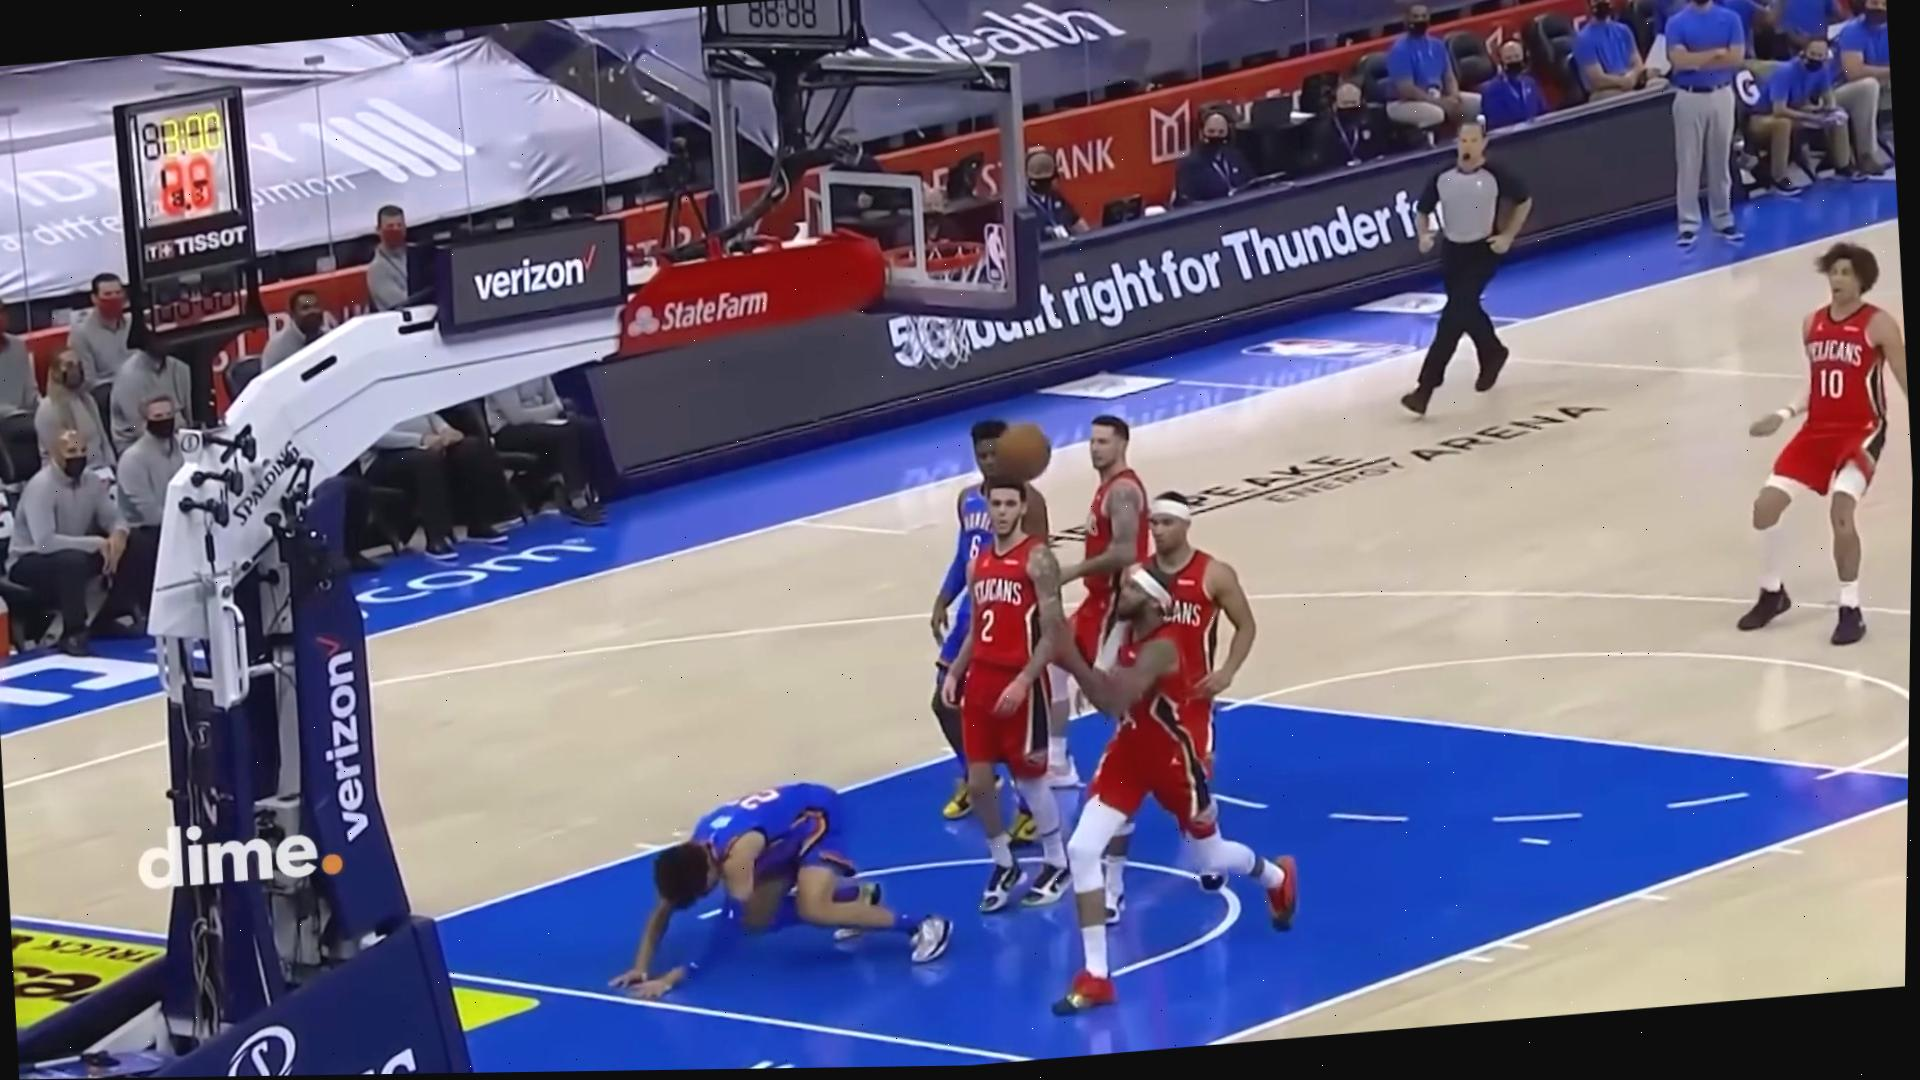no_foul: (545, 717, 1009, 1031)
